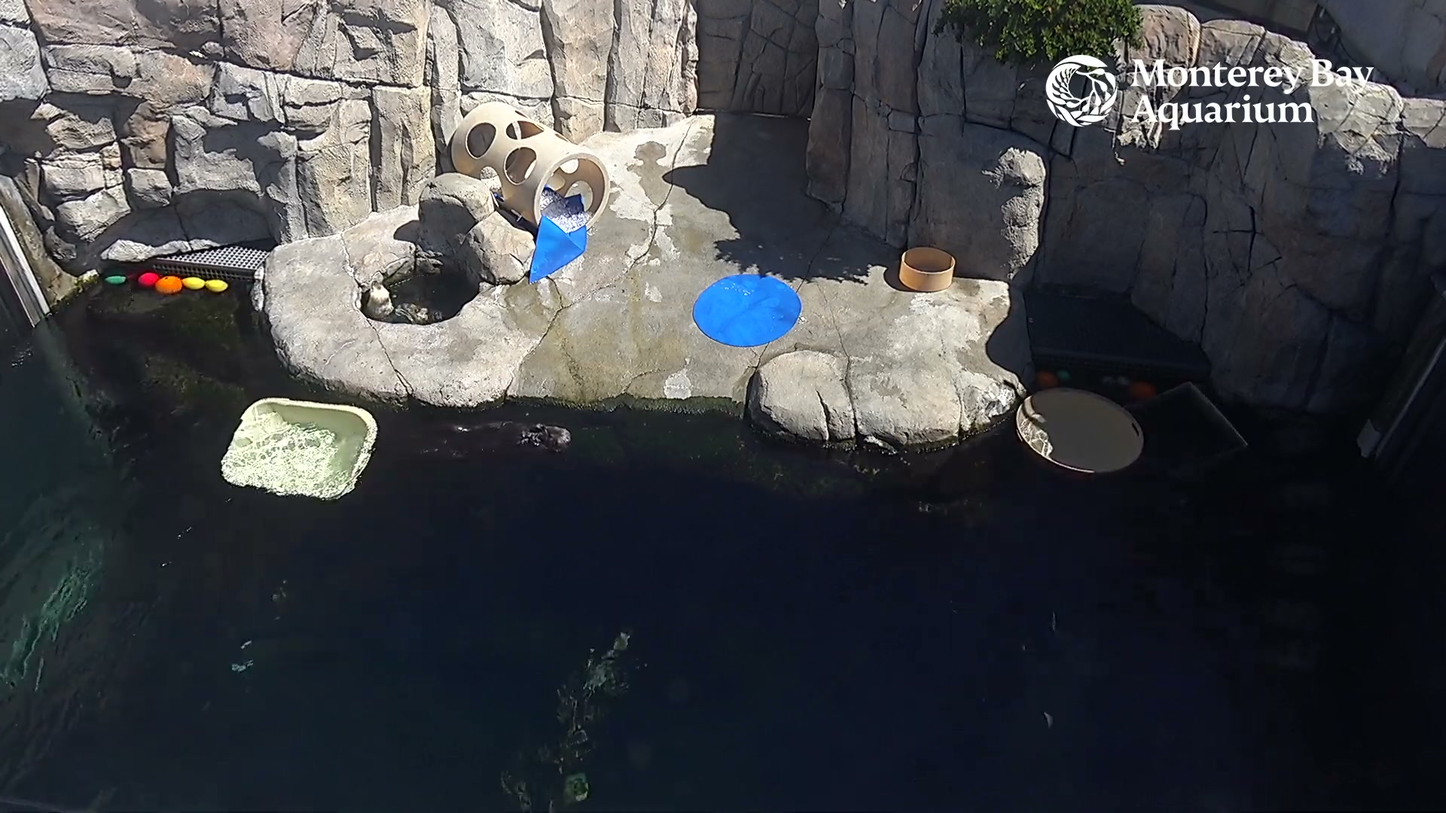Southern Sea Otter: (404, 399, 619, 482), (351, 263, 494, 341)
